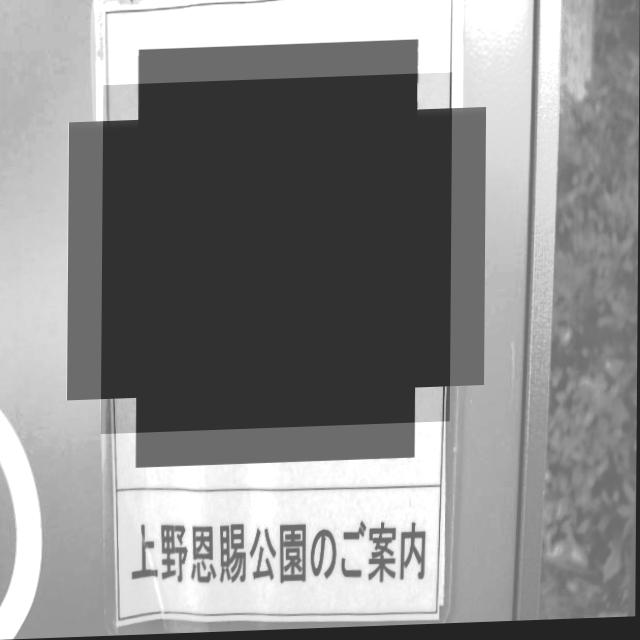qr_code: (101, 76, 452, 435)
